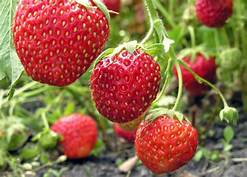Fresa: (11, 1, 111, 94), (87, 38, 166, 127), (132, 107, 201, 176), (169, 45, 219, 98)
